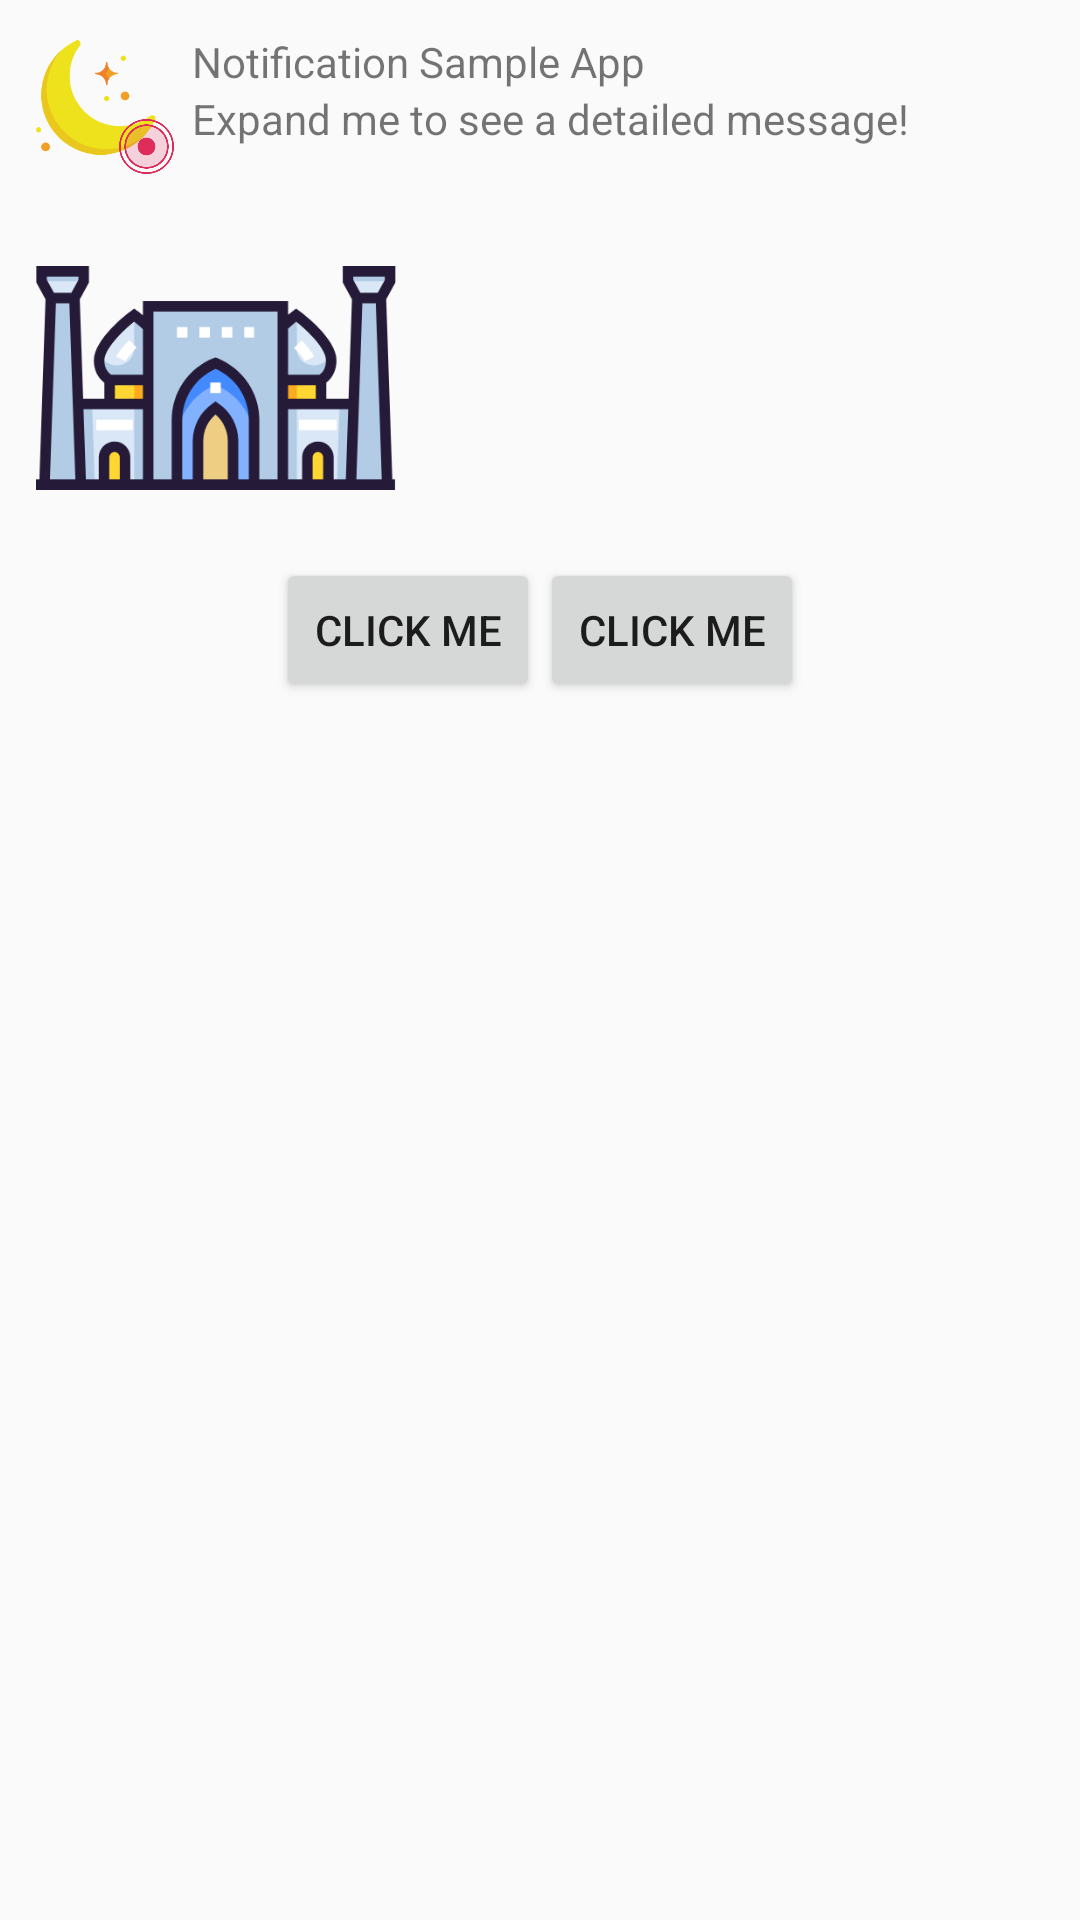

Icon click points for this 1080px×1920px phone screenshot, format [x,y]:
uzbekistan: [216,378]
